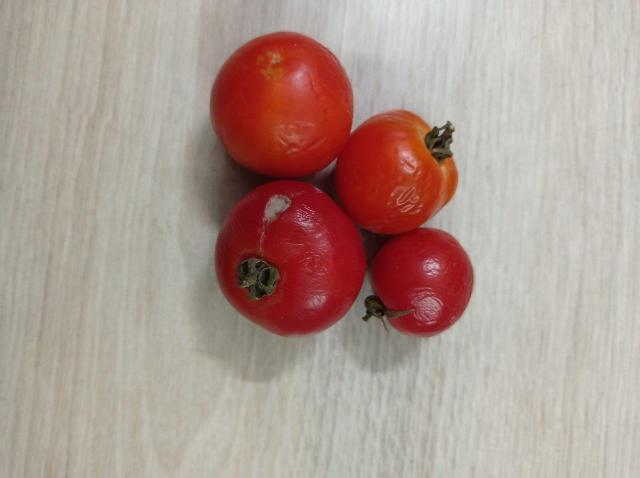defect: (212, 179, 367, 339)
